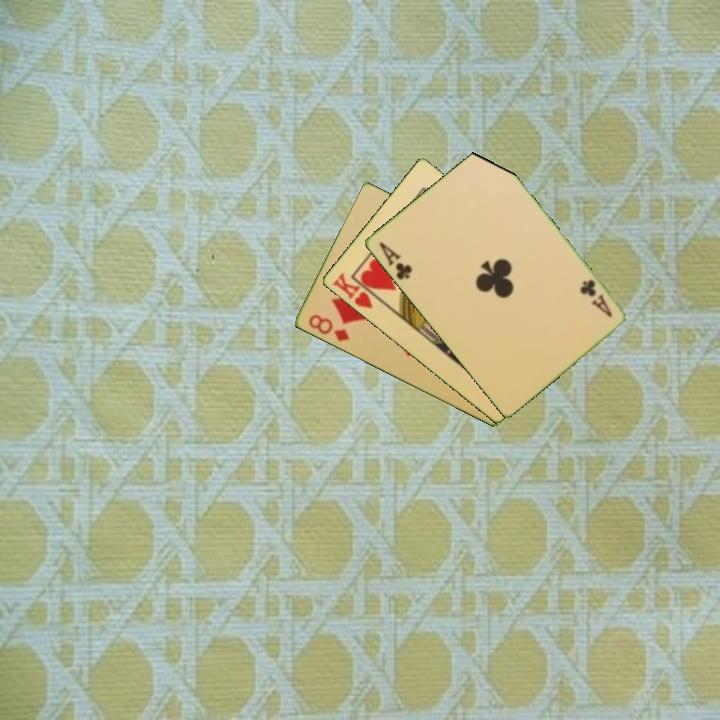8d: (305, 311, 352, 344)
Ac: (375, 238, 415, 283), (576, 276, 615, 320)
Kh: (328, 269, 383, 312)
